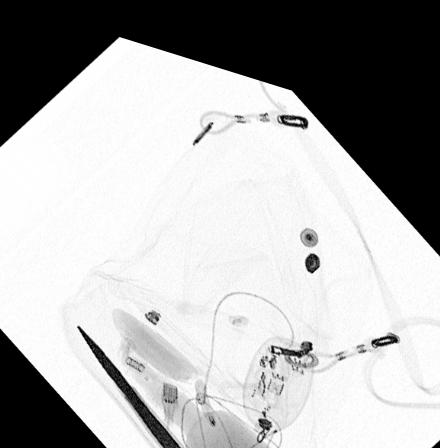Pliers: (71, 318, 193, 448)
